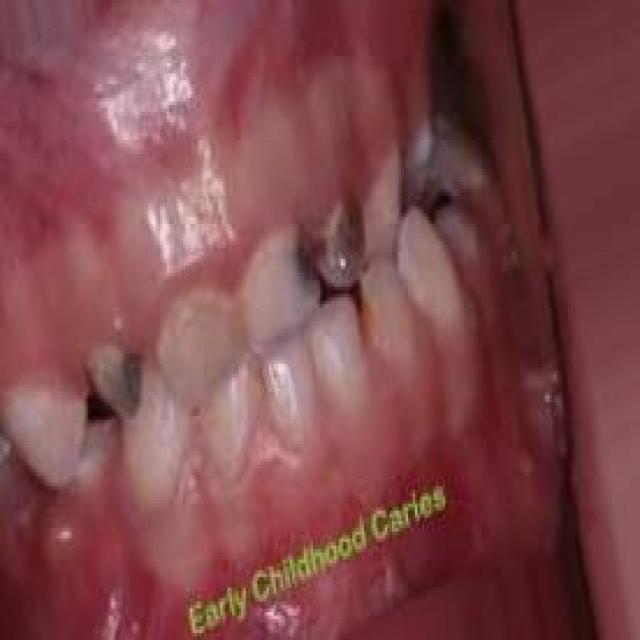caries: (284, 198, 371, 314), (70, 324, 144, 438), (402, 125, 464, 238)
